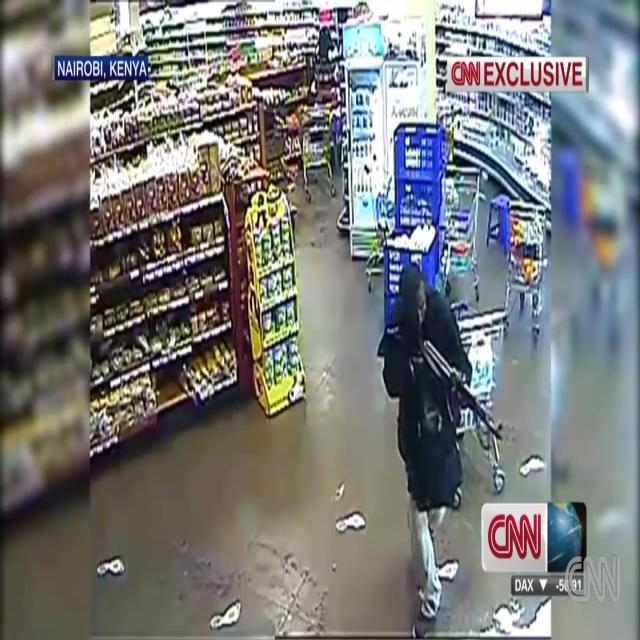Weapon: (382, 316, 508, 451)
